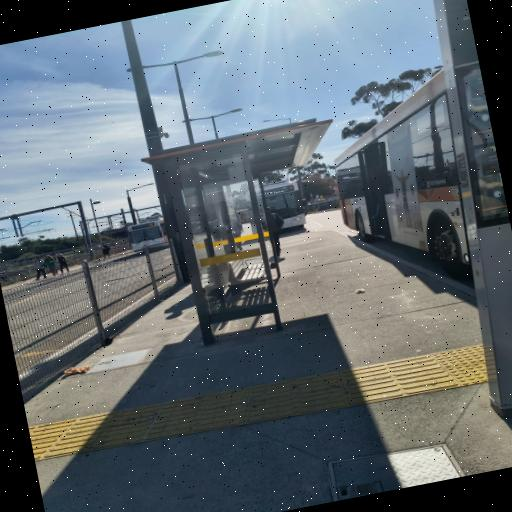clear_path: (277, 231, 480, 362)
platform_edge: (326, 230, 473, 308)
tgsi: (34, 335, 484, 460)
